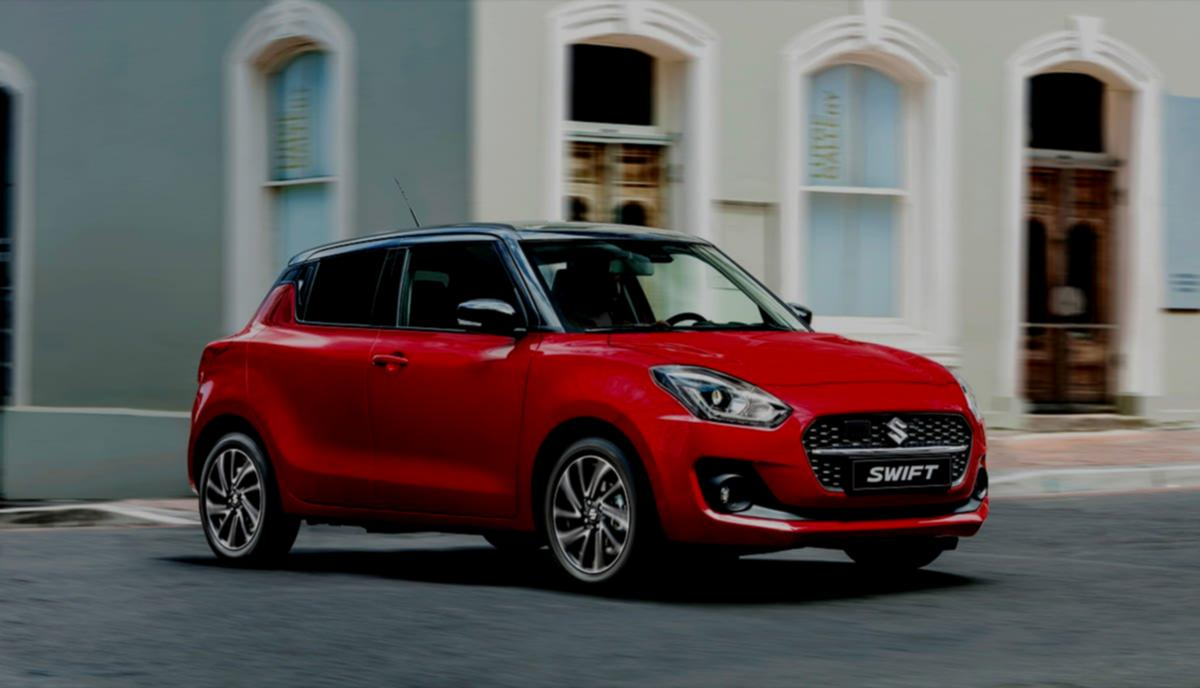suzuki: (876, 410, 922, 448)
